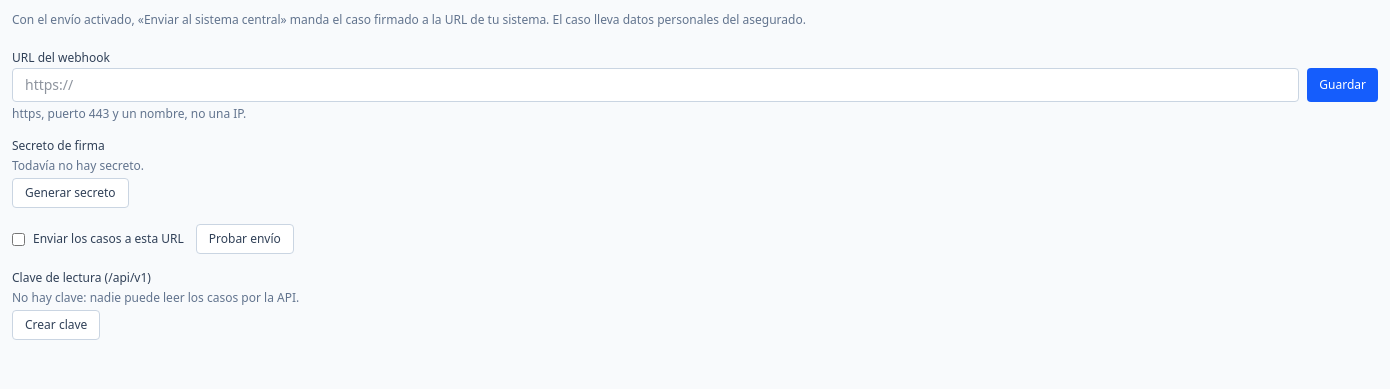
CoreSyncPanel › un rechazo del servidor se lee en es-AR
What coordinates should you click on to do the following:
click the button "Probar envío"
I would click on:
 (245, 239)
Its box is 196,224 -> 294,254.
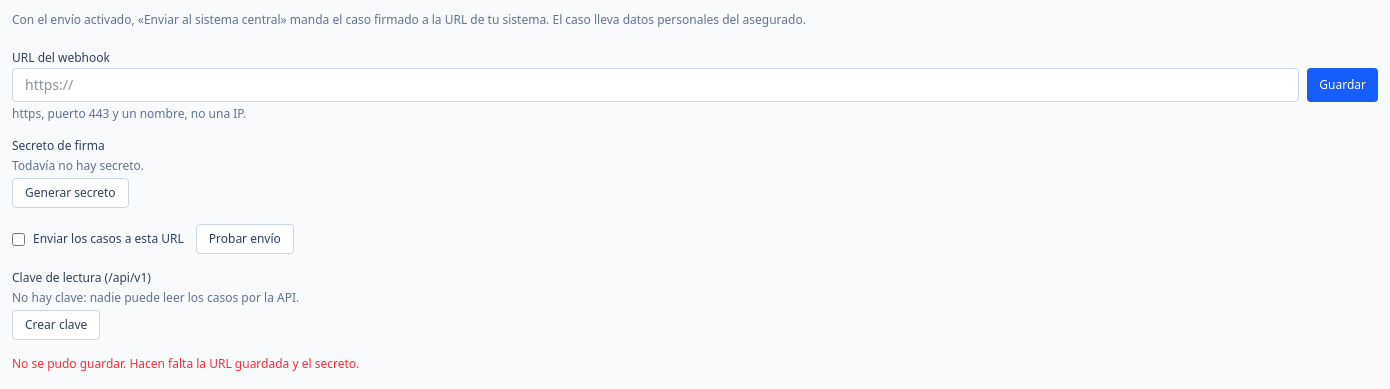
Expected: the message reads "No se pudo guardar. Hacen falta la URL guardada y el secreto.", 12,355 -> 359,372
